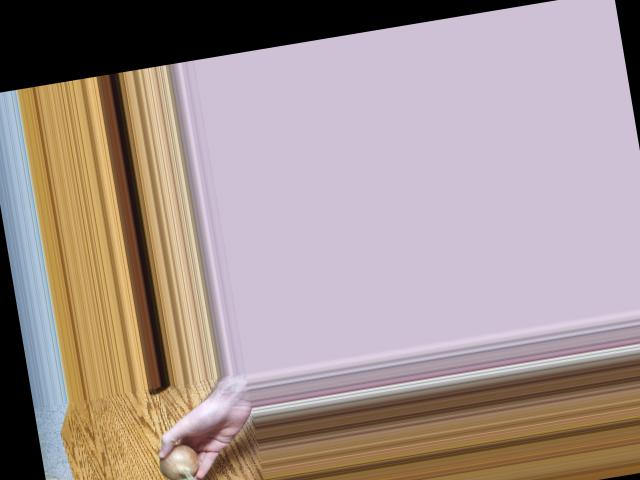onion: (156, 440, 204, 480)
